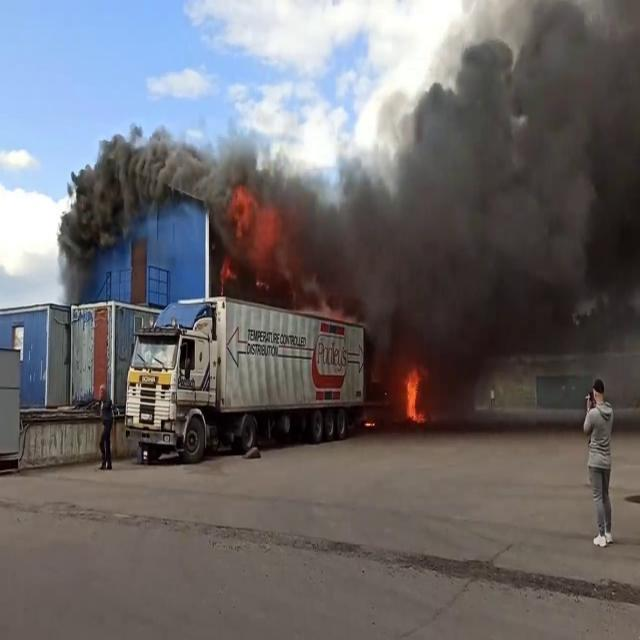Fire: (222, 183, 286, 290), (398, 358, 428, 430)
Smoke: (295, 0, 640, 394), (54, 98, 280, 276)
